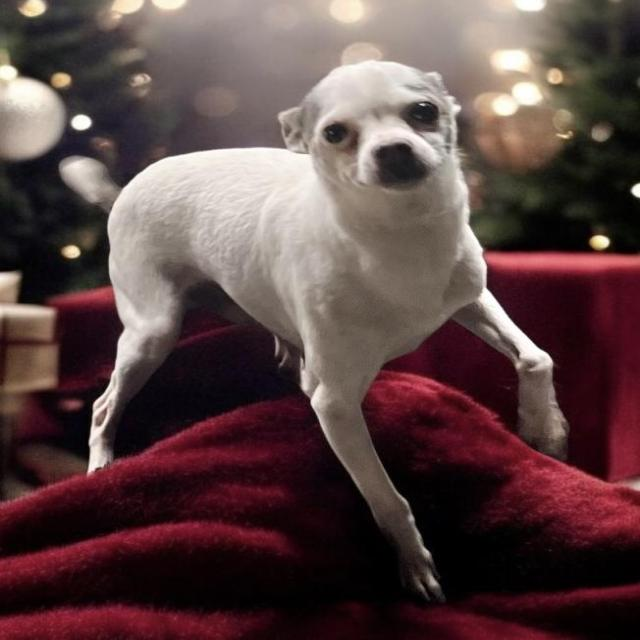chihuahua_dog: (253, 51, 494, 253)
